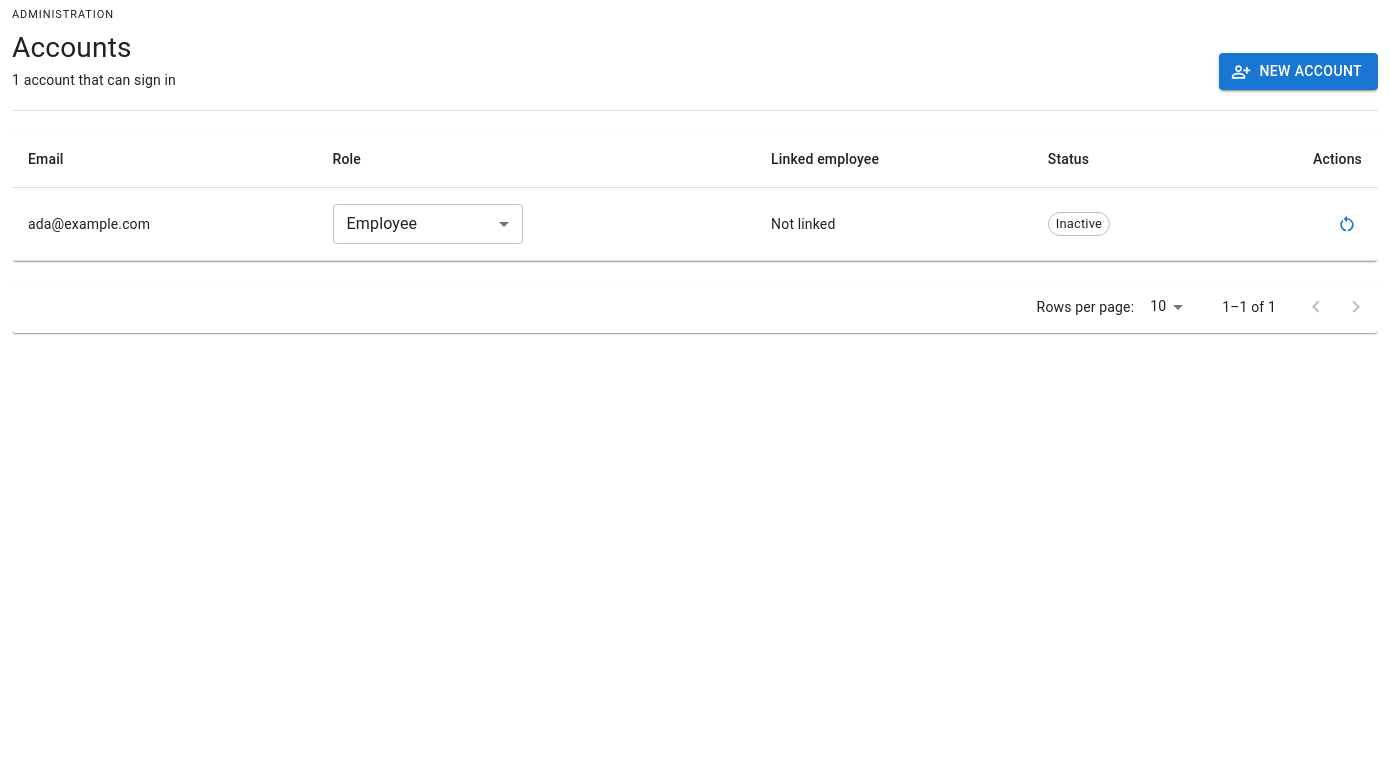
Test: UserListPage › shows the rule the server enforced instead of pretending it worked
Check: the text "ada@example.com" is shown, box [28, 214, 150, 234]
Click the button named "Activate" at (1347, 224), box [1332, 209, 1362, 239]
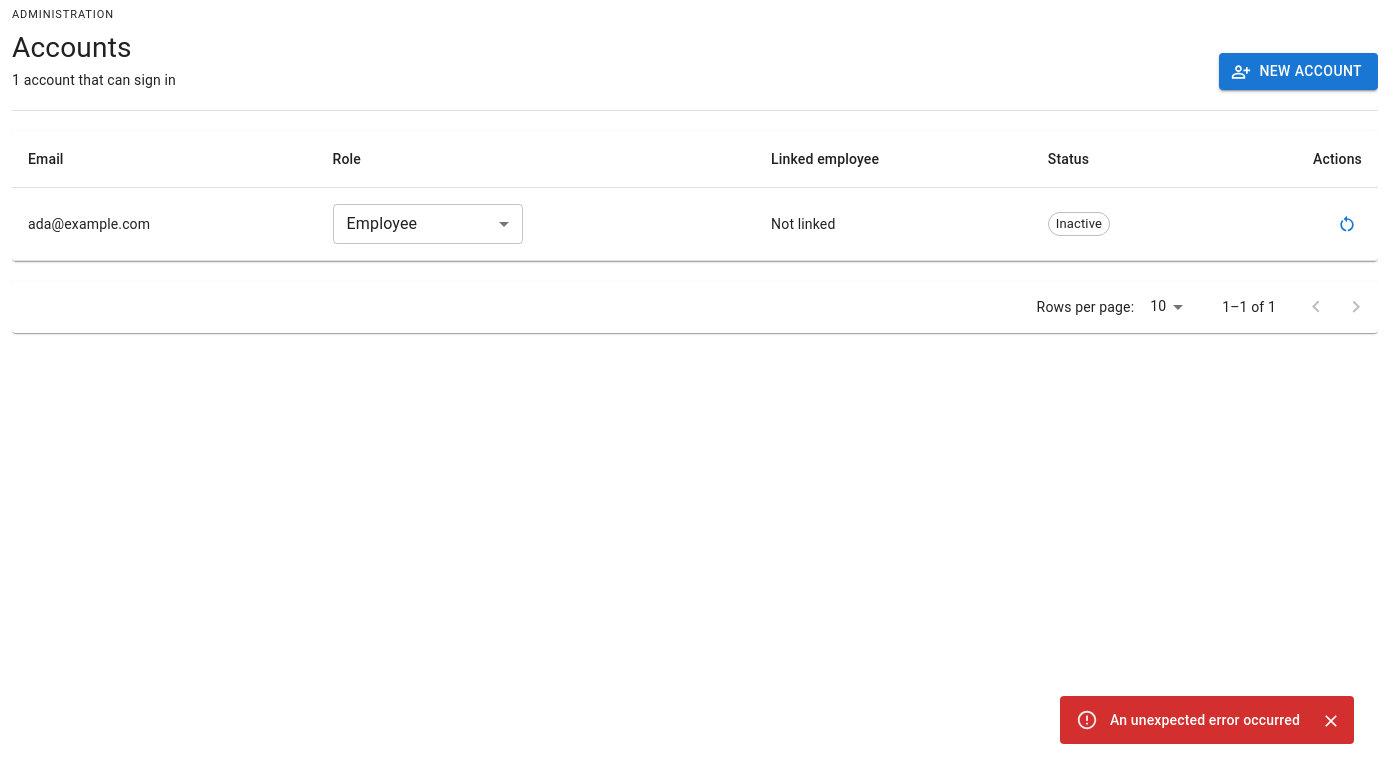
Check: the text "An unexpected error occurred" is shown, box [1110, 712, 1300, 728]
